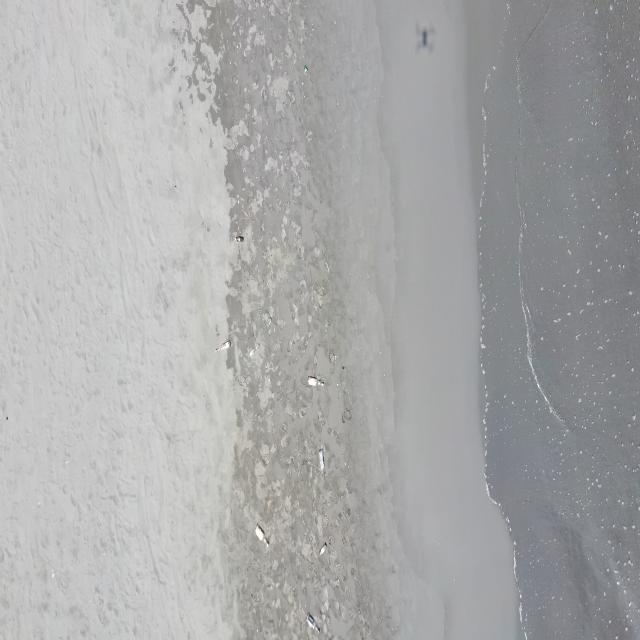glass: (254, 523, 270, 549), (306, 614, 320, 634), (214, 339, 232, 354), (307, 374, 325, 388), (318, 448, 326, 479), (318, 542, 328, 556), (249, 343, 259, 356), (234, 234, 244, 244), (266, 316, 272, 328), (303, 65, 308, 74)
